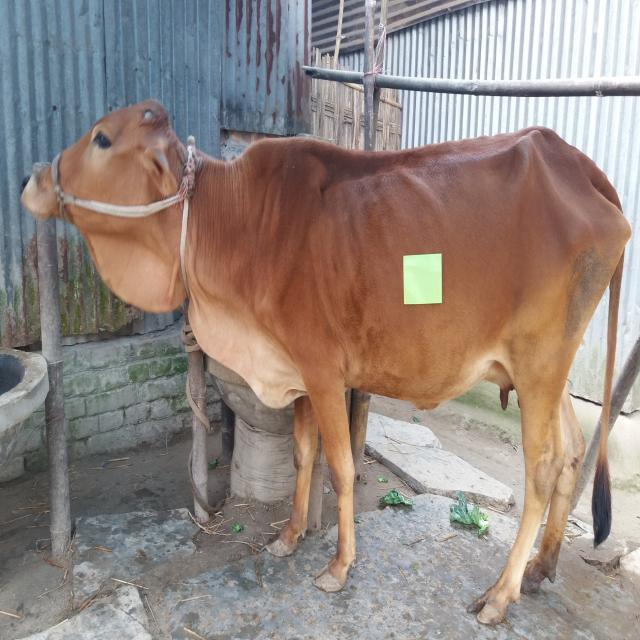badan_sapi: (264, 132, 620, 414)
sapi: (11, 86, 632, 624)
